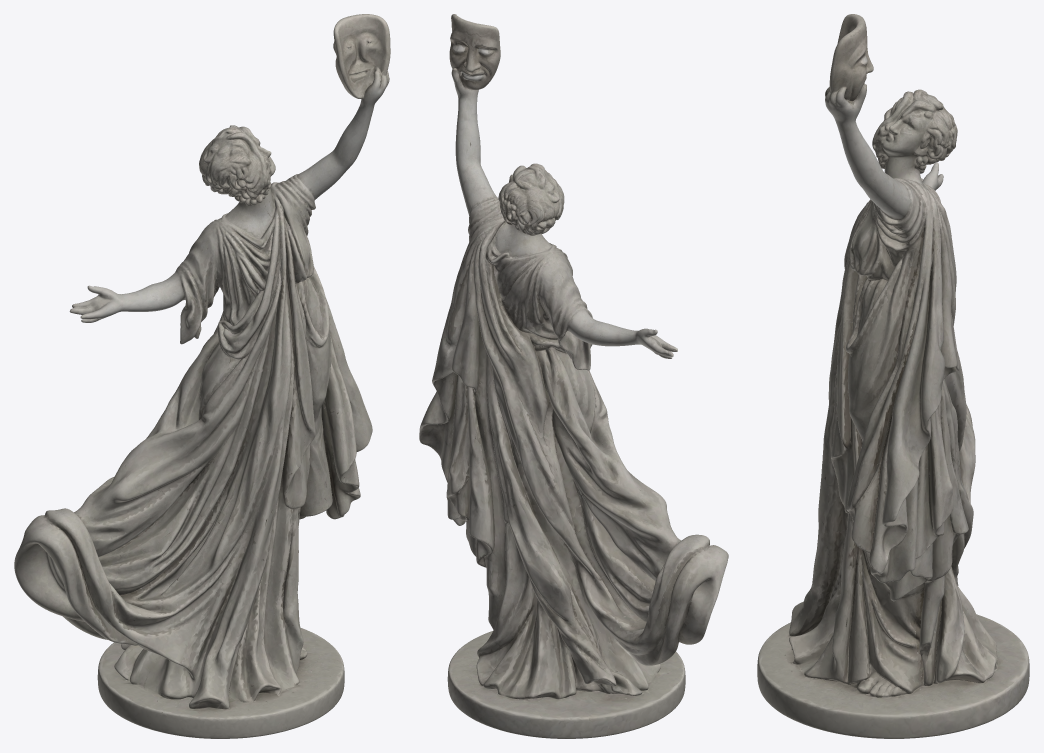
Rendered from statue.glb.
The picture shows the model from 3 angles, left to right: view 1: azimuth 30°, elevation 25°; view 2: azimuth 150°, elevation 25°; view 3: azimuth 270°, elevation 25°; orthographic projection. The views are drawn at different scales.
Bounding box in the file's own units: 1.01 × 1.9 × 0.6483.
Materials: 1 (1 with a texture image).
